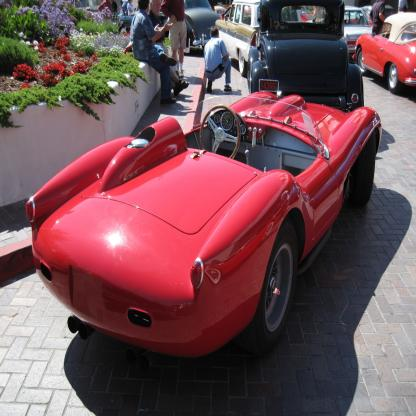Car: (27, 76, 362, 367), (249, 1, 367, 109), (352, 10, 416, 92), (158, 1, 223, 44), (341, 6, 375, 61), (341, 3, 373, 60), (115, 14, 141, 37)
